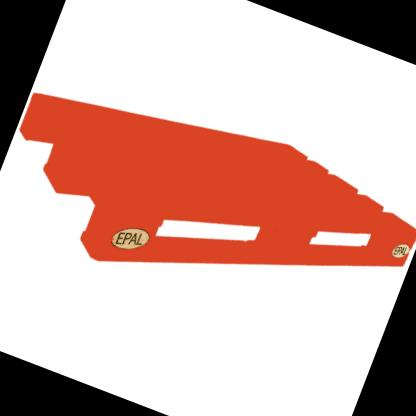BoxFace: (16, 90, 416, 271)
